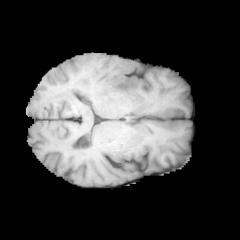glioma: (76, 54, 141, 100)
